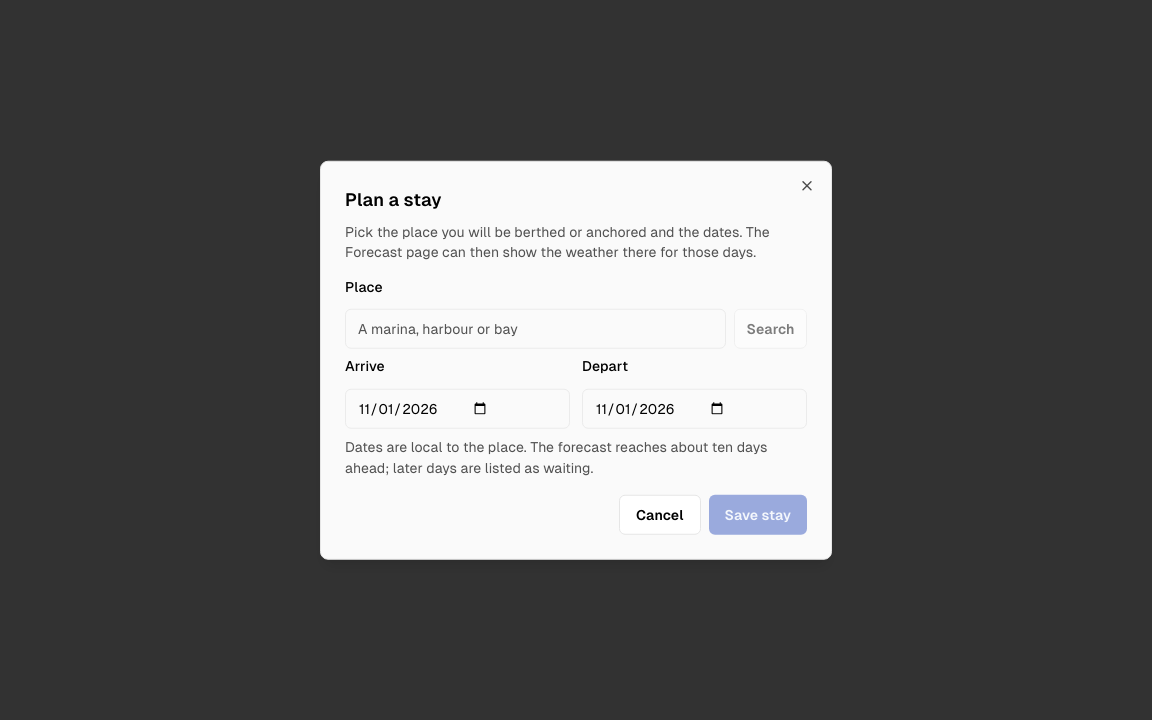
ForecastStaySheet › moves departure with arrival so it is never before it
The width and height of the screenshot is (1152, 720).
Type "Coral Coast" into the field labelled "Place".
click(536, 329); type("Coral Coast")  # box [345, 309, 726, 349]
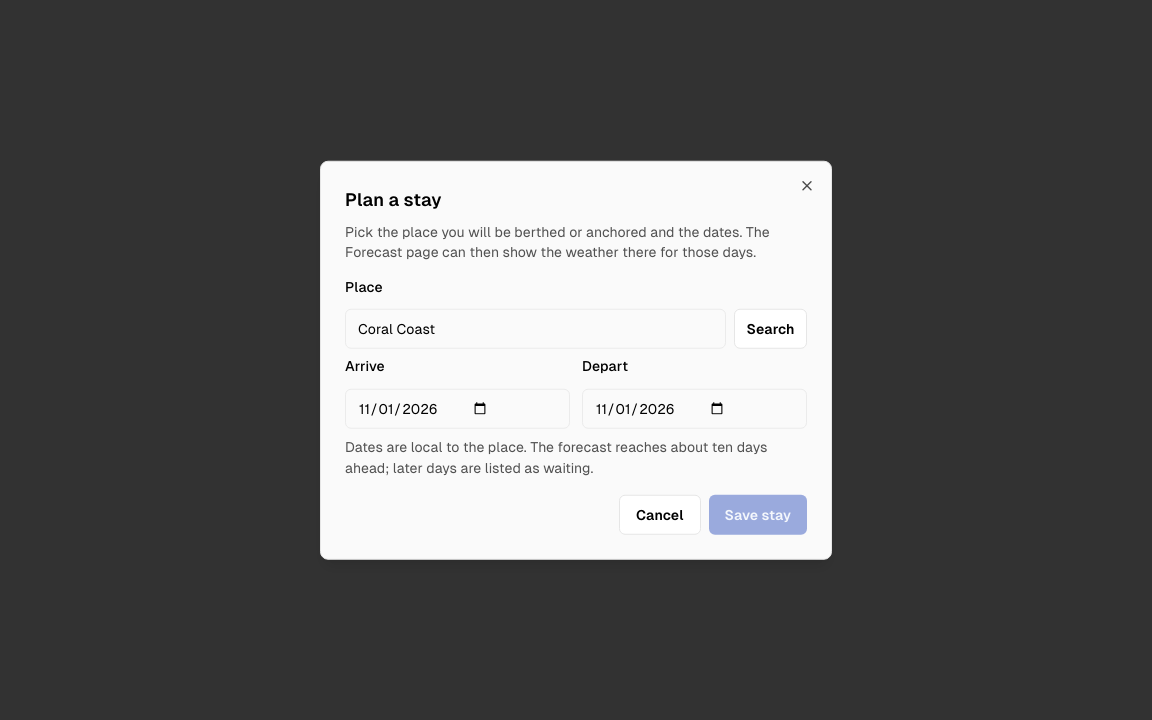
Click the button "Search".
click(770, 329)  # box [734, 309, 807, 349]
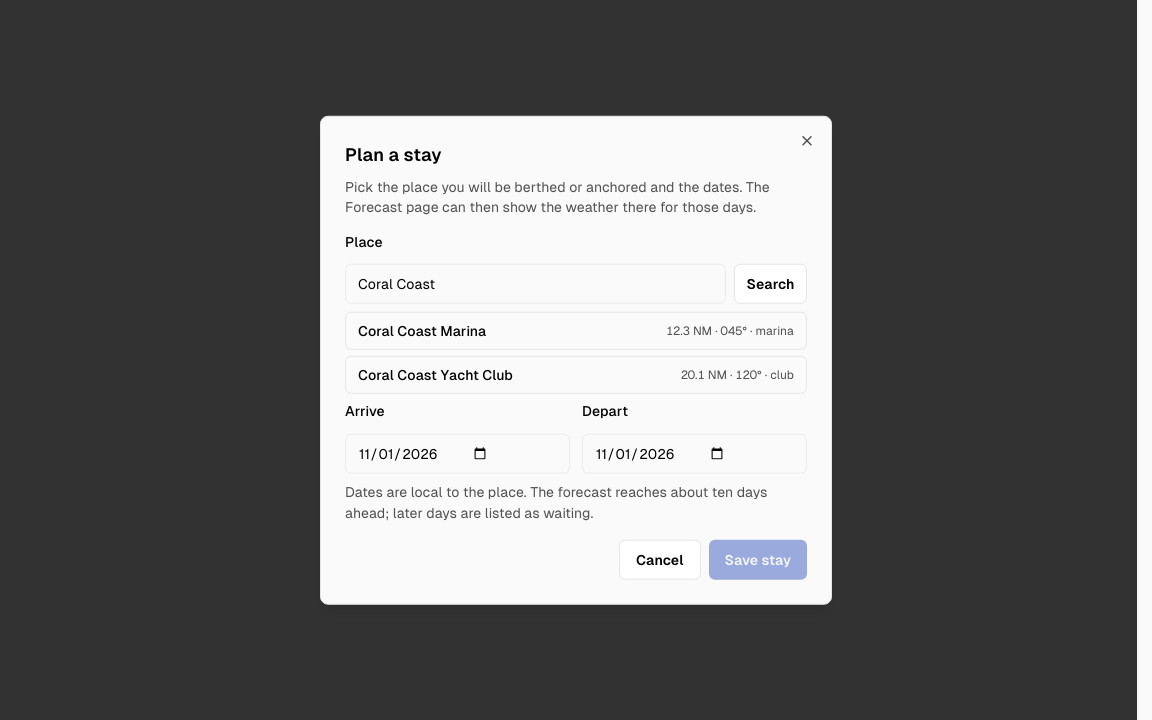
Click the button "Coral Coast Marina 12.3 NM · 045° · marina".
click(422, 331)  # box [345, 312, 807, 350]
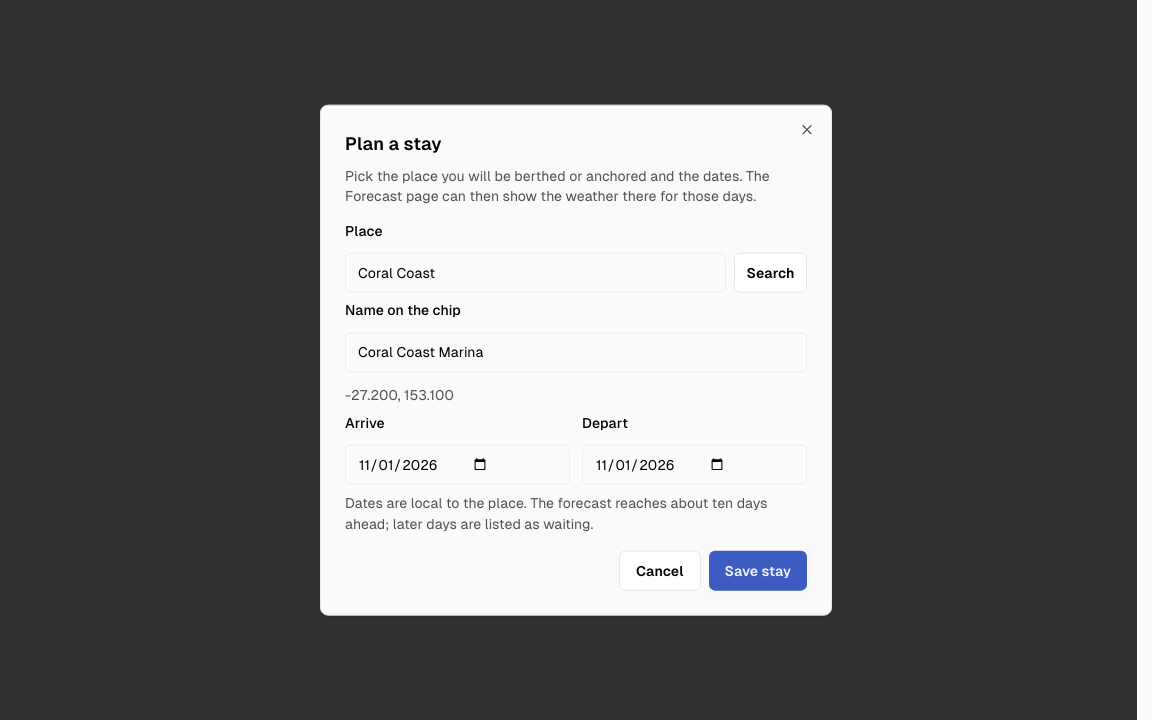
Type "2999-03-05" into the date field labelled "Arrive".
click(458, 464); type("2999-03-05")  # box [345, 444, 570, 484]
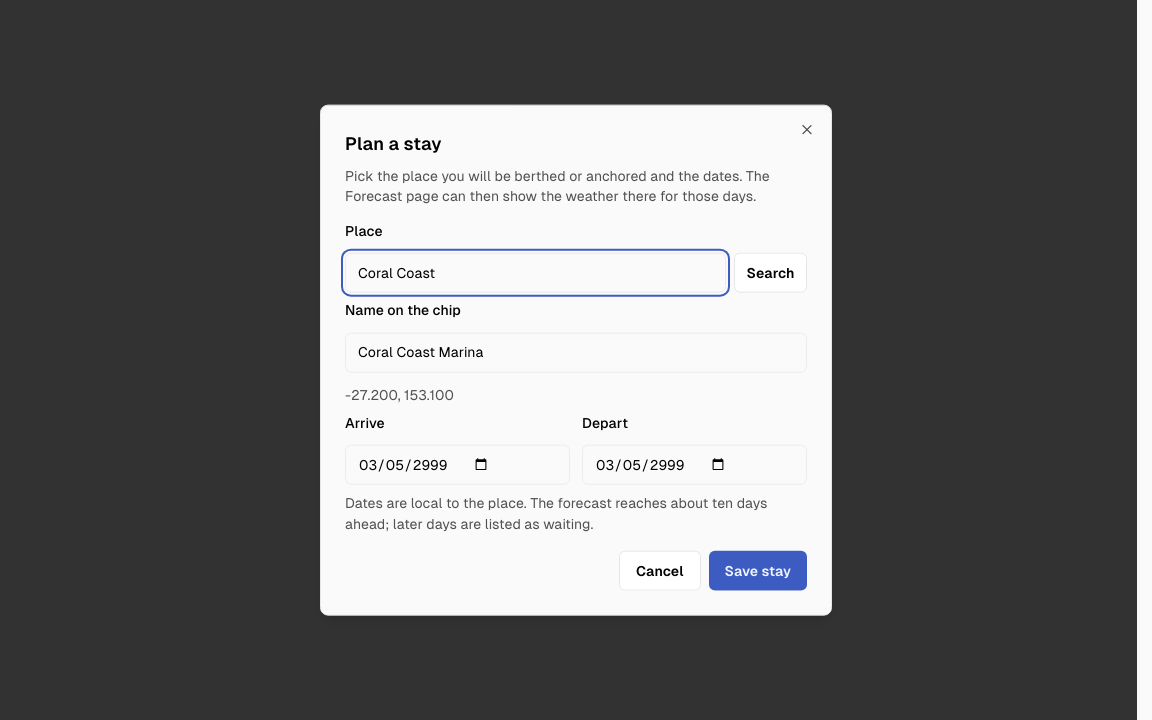
Expected: the date field labelled "Depart" holds "2999-03-05", [582, 444, 807, 484]
